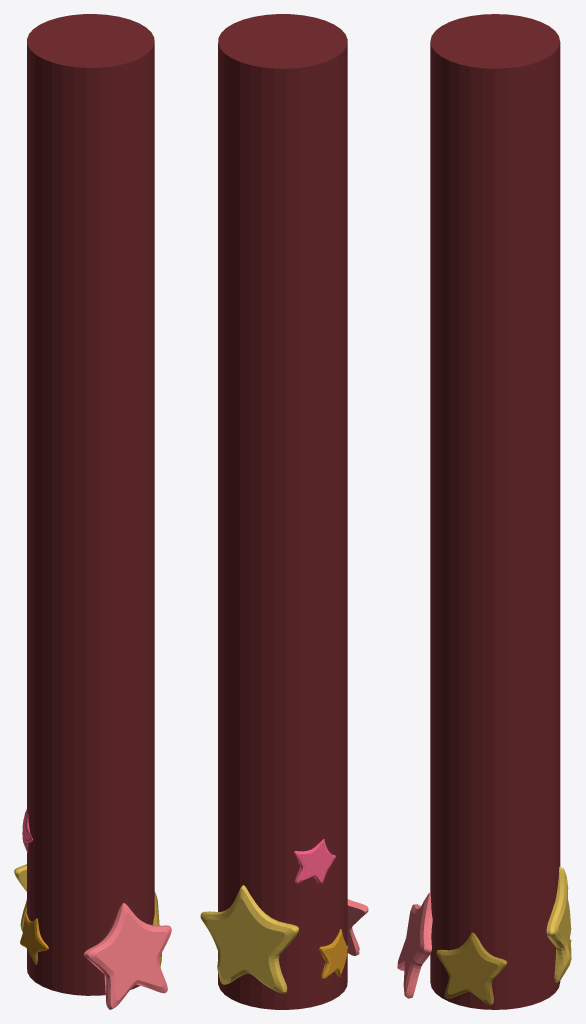
The model's file is temple-pillar.fbx.
3 views of the same model, side by side, from view 1: azimuth 30°, elevation 25°; view 2: azimuth 150°, elevation 25°; view 3: azimuth 270°, elevation 25° (orthographic).
Visible parts, largest first — view 1: Cylinder, BézierCurve, BézierCurve.003; view 2: Cylinder, BézierCurve.002, BézierCurve.004, BézierCurve.003, BézierCurve; view 3: Cylinder, BézierCurve.001, BézierCurve, BézierCurve.002.
Part boxes in pixels (x1,y1,x2,y2): Cylinder: (27, 14, 154, 995); BézierCurve: (83, 903, 171, 1009); BézierCurve.003: (20, 914, 48, 964); Cylinder: (218, 14, 347, 1009); BézierCurve.002: (200, 885, 298, 993); BézierCurve.004: (294, 839, 335, 883); BézierCurve.003: (319, 929, 347, 978); BézierCurve: (347, 899, 368, 955); Cylinder: (430, 14, 560, 1009); BézierCurve.001: (436, 932, 507, 1005); BézierCurve: (397, 892, 432, 998); BézierCurve.002: (546, 867, 571, 982).
Size of the model in its own units: 111 by 800 by 134.
